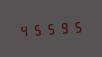five: (31, 21, 43, 37), (44, 20, 56, 36), (70, 18, 82, 34)
four: (18, 22, 30, 38)
nine: (57, 19, 69, 35)
